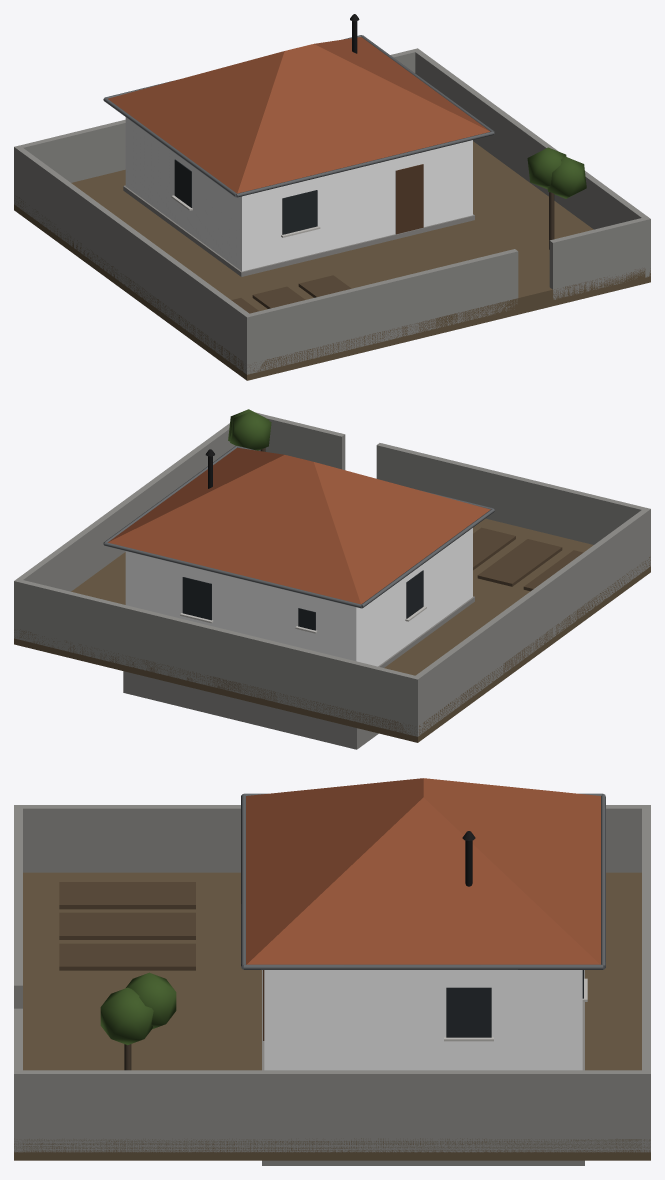
Rendered from bina_10.glb.
3 renders of one model, top to bottom at view 1: azimuth 30°, elevation 25°; view 2: azimuth 150°, elevation 25°; view 3: azimuth 270°, elevation 25°, orthographic. The views are drawn at different scales.
Visible parts, largest first — view 1: P10_Gecekondu_A_L1.001; view 2: P10_Gecekondu_A_L1.001; view 3: P10_Gecekondu_A_L1.001.
Boxes of the visible parts, box(x1,y1,x2,y2) form: P10_Gecekondu_A_L1.001: box(14, 14, 650, 380); P10_Gecekondu_A_L1.001: box(14, 409, 650, 749); P10_Gecekondu_A_L1.001: box(14, 778, 650, 1165).
Bounding box in the file's own units: 14 × 7.38 × 14.
